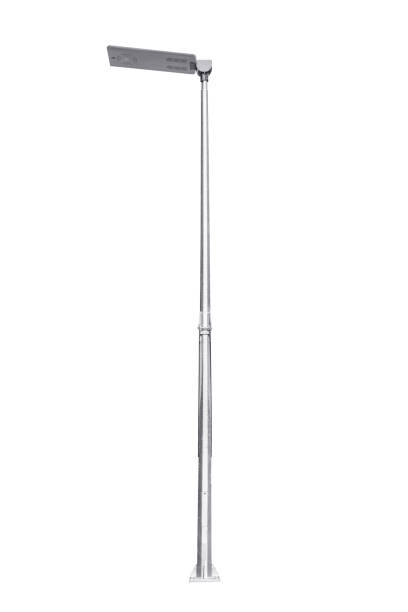light_pole: (194, 66, 216, 580)
